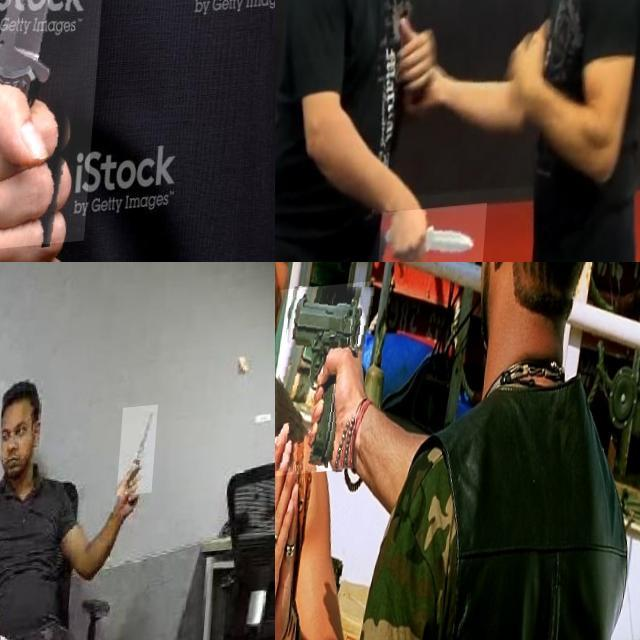-: (0, 0, 117, 262), (386, 210, 495, 262), (123, 412, 163, 502)
gun-knife-thesis - v11 Yolov5 augmented: (275, 288, 375, 482)
